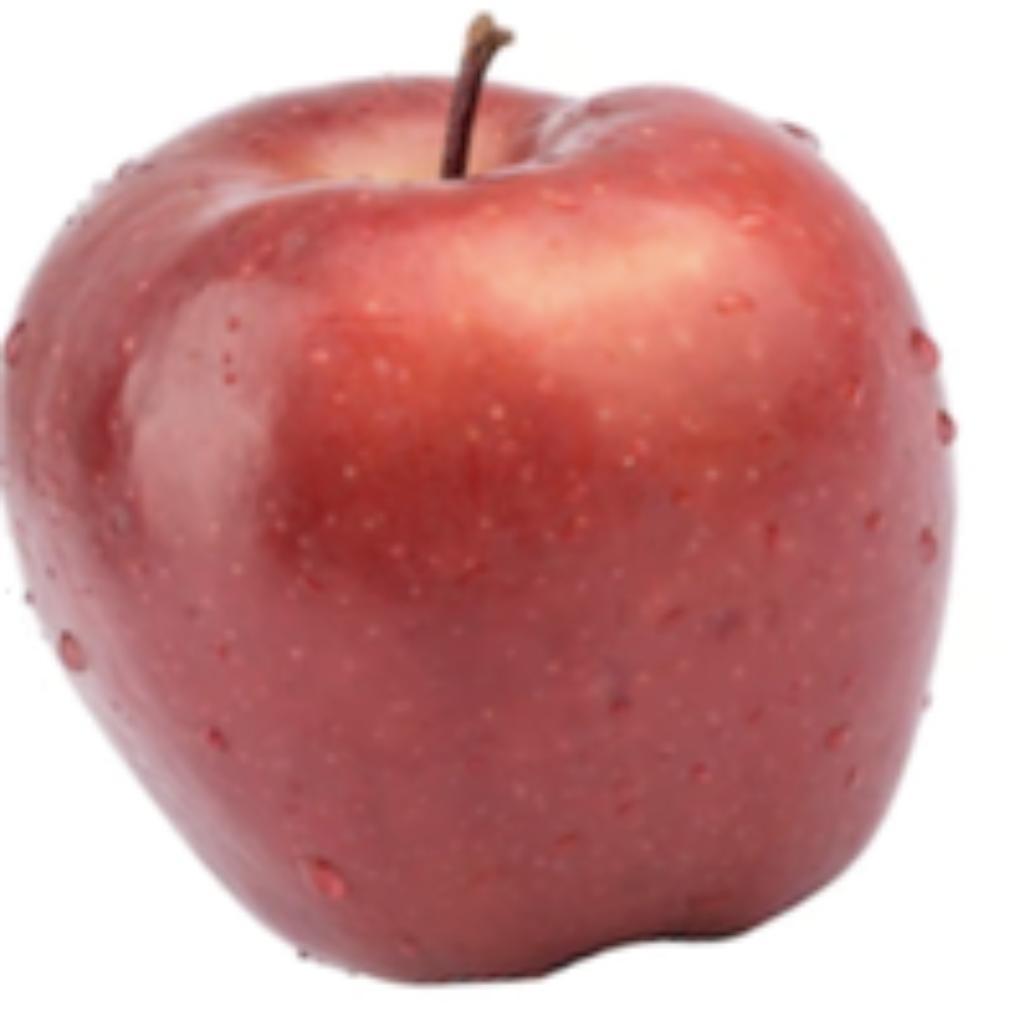apple: (0, 20, 963, 988)
